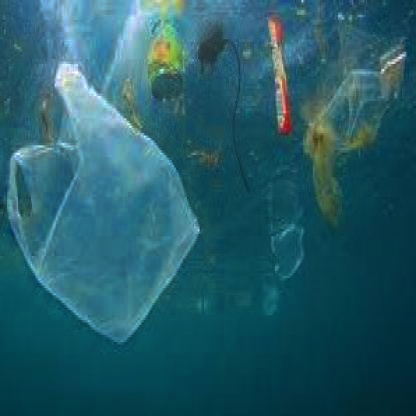can: (149, 10, 186, 101)
pbag: (8, 57, 202, 344)
